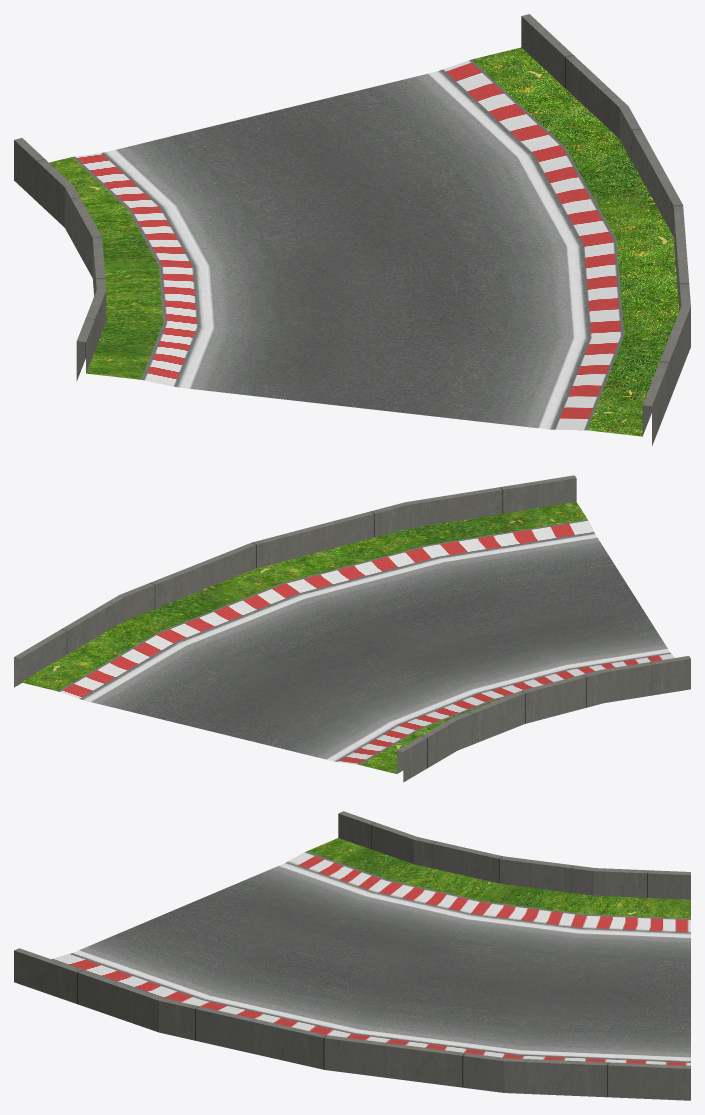
File: turn_small_short.fbx
3 views of the same model, one above another, from view 1: azimuth 30°, elevation 25°; view 2: azimuth 150°, elevation 25°; view 3: azimuth 270°, elevation 25° (orthographic). The views are drawn at different scales.
Parts seen in each view (by area): view 1: 5; view 2: 5; view 3: 5.
Boxes of the visible parts, <box> form: 5: <box>14,14,690,445</box>; 5: <box>14,475,690,782</box>; 5: <box>14,811,690,1100</box>.
Size of the model in its own units: 232 by 13.34 by 257.
